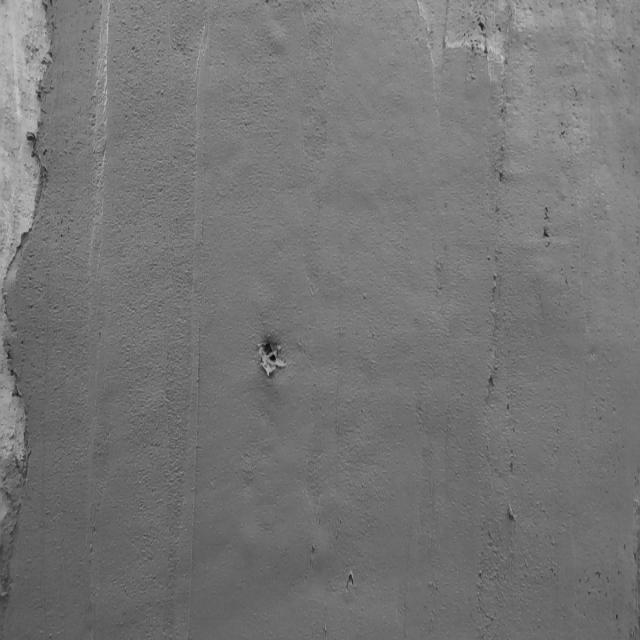trowels marks: (481, 25, 509, 411)
